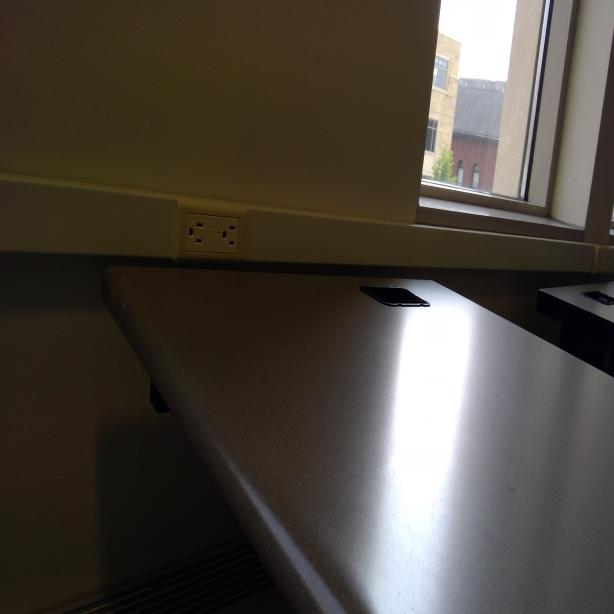typeb: (187, 219, 207, 258), (220, 217, 240, 255)
